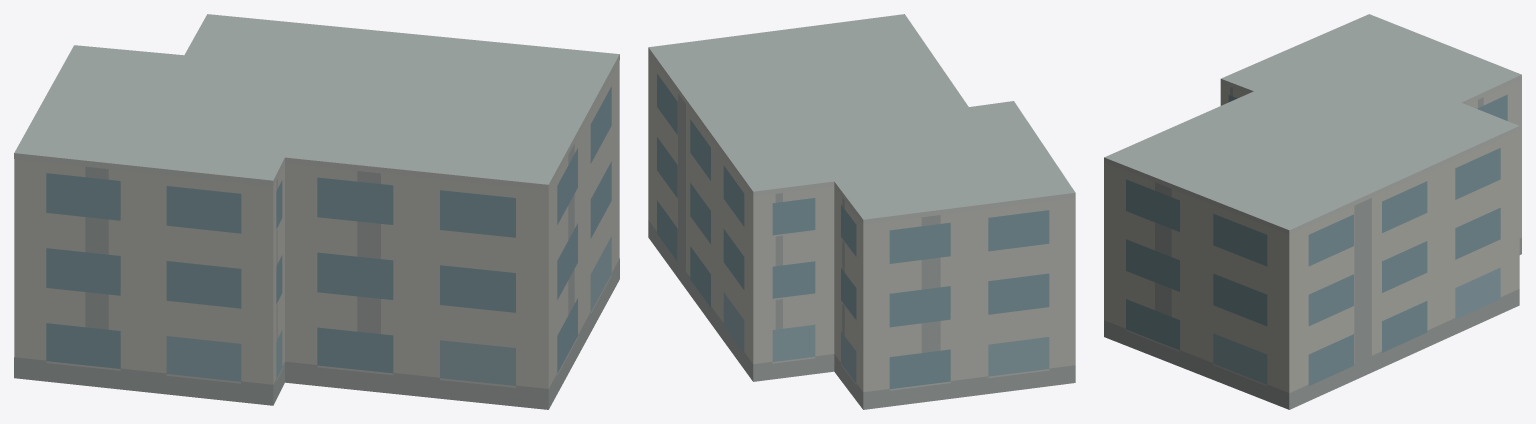
Rendered from survey-upis-32521045.glb.
3 renders of one model, left to right at view 1: azimuth 30°, elevation 25°; view 2: azimuth 150°, elevation 25°; view 3: azimuth 270°, elevation 25°, orthographic. The views are drawn at different scales.
Parts seen in each view (by area): view 1: survey-upis-32521045.tmp; view 2: survey-upis-32521045.tmp; view 3: survey-upis-32521045.tmp.
Boxes of the visible parts, x1,y1,x2,y2 form: survey-upis-32521045.tmp: [14, 14, 619, 409]; survey-upis-32521045.tmp: [648, 14, 1075, 409]; survey-upis-32521045.tmp: [1104, 14, 1521, 409].
Size of the model in its own units: 23.65 by 9.15 by 19.3.
